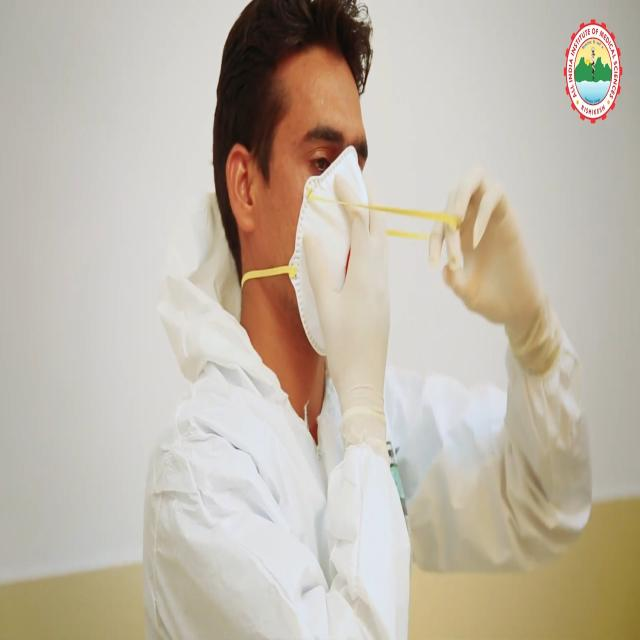Gloves: (434, 138, 563, 391), (311, 175, 402, 458)
